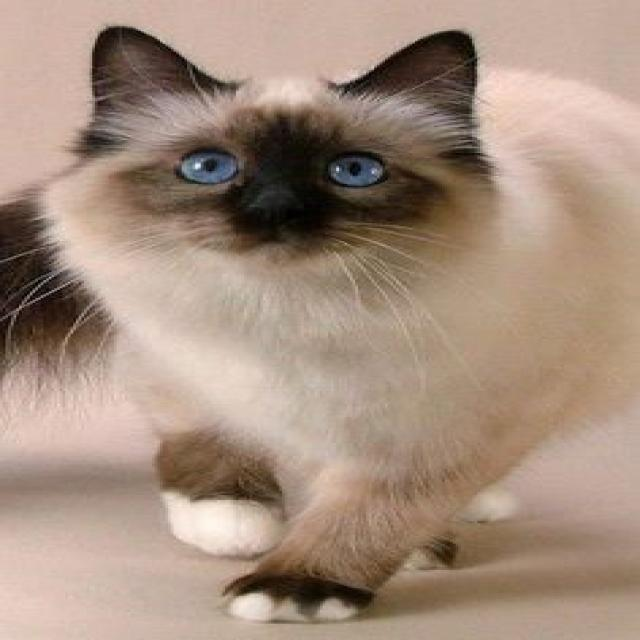da khoe manh: (262, 270, 608, 442)
